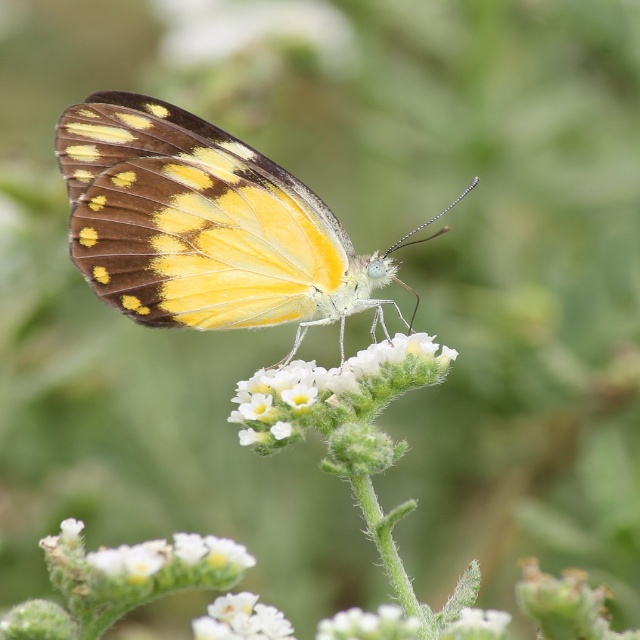Butterfly: (54, 89, 481, 377)
